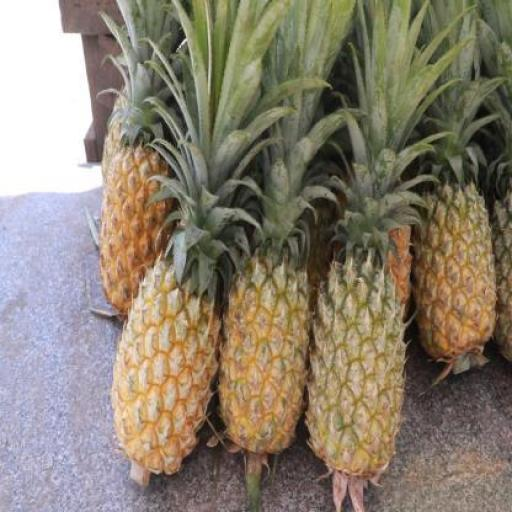------------------------------: (310, 261, 408, 464)
Pineapple - v8 v1: (114, 263, 220, 475), (221, 260, 314, 455), (98, 144, 175, 331), (416, 193, 496, 360)
